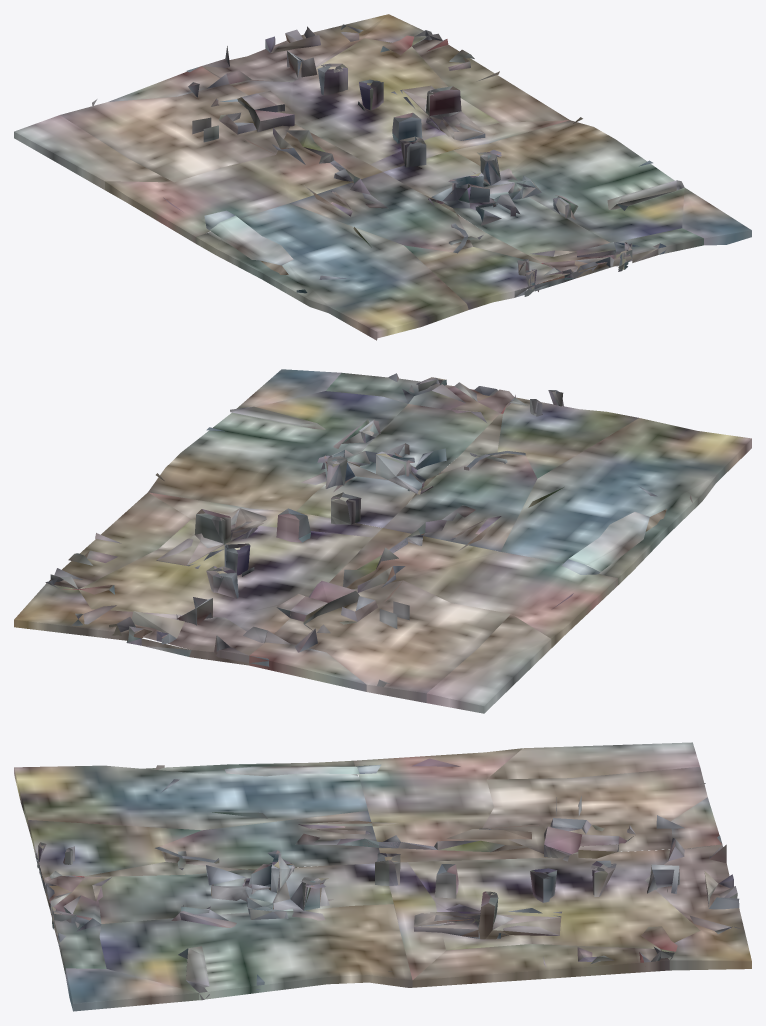
3 views of the same model, one above another, from view 1: azimuth 30°, elevation 25°; view 2: azimuth 150°, elevation 25°; view 3: azimuth 270°, elevation 25° (orthographic). The views are drawn at different scales.
Parts seen in each view (by area): view 1: Mesh_0; view 2: Mesh_0; view 3: Mesh_0.
Boxes of the visible parts, x1,y1,x2,y2 form: Mesh_0: [14, 14, 751, 340]; Mesh_0: [14, 369, 751, 713]; Mesh_0: [14, 742, 751, 1011].
Bounding box in the file's own units: 1064 × 115 × 1318.
Materials: 1 (1 with a texture image).
